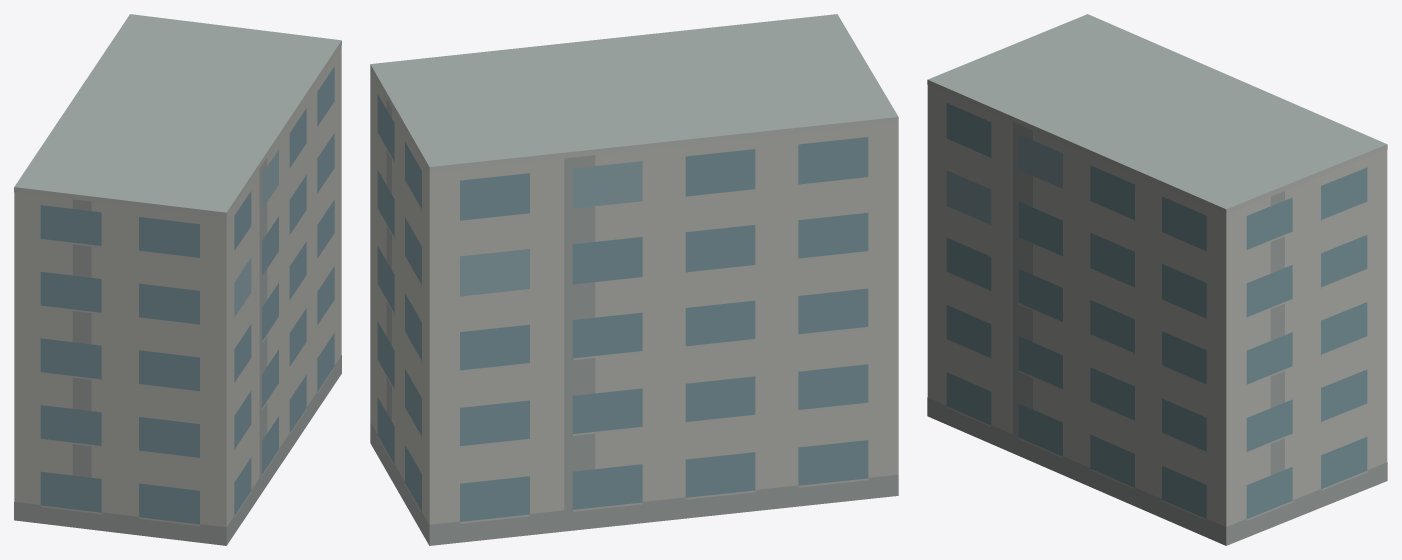
File: survey-upis-32699214.glb
3 views of the same model, side by side, from view 1: azimuth 30°, elevation 25°; view 2: azimuth 150°, elevation 25°; view 3: azimuth 270°, elevation 25° (orthographic). The views are drawn at different scales.
Visible parts, largest first — view 1: survey-upis-32699214.tmp; view 2: survey-upis-32699214.tmp; view 3: survey-upis-32699214.tmp.
Part boxes in pixels (x1=…): survey-upis-32699214.tmp: x1=14, y1=14, x2=341, y2=545; survey-upis-32699214.tmp: x1=370, y1=14, x2=898, y2=545; survey-upis-32699214.tmp: x1=927, y1=14, x2=1387, y2=545.
Bounding box in the file's own units: 19.54 × 15.7 × 19.45.
